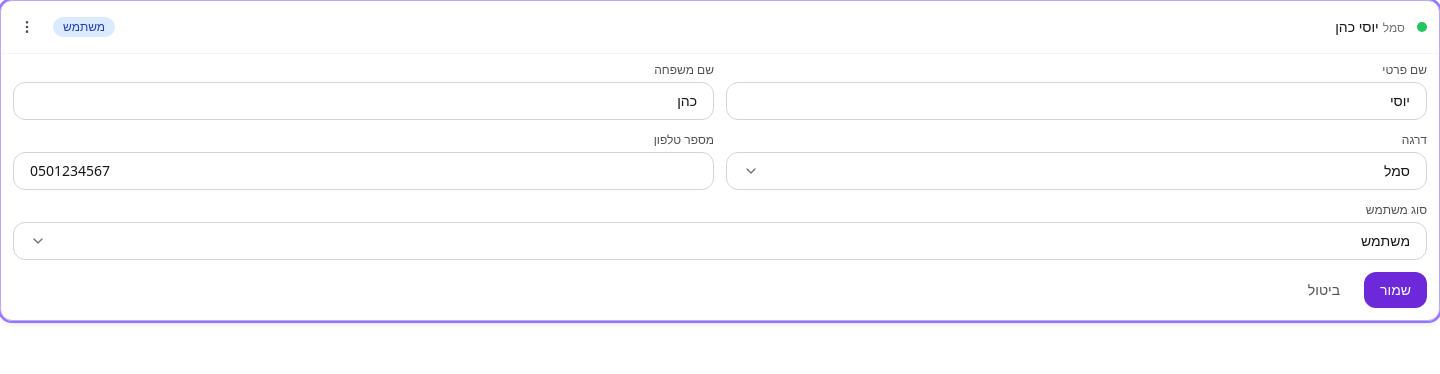
Test: PersonnelRow — edit mode › shows a validation error when the name is invalid (e.g. Latin letters)
This screenshot has width=1440, height=374.
Replace the text in the field below "שם פרטי" with "Yossi": coordinates (1076, 101) [726,82,1427,120]
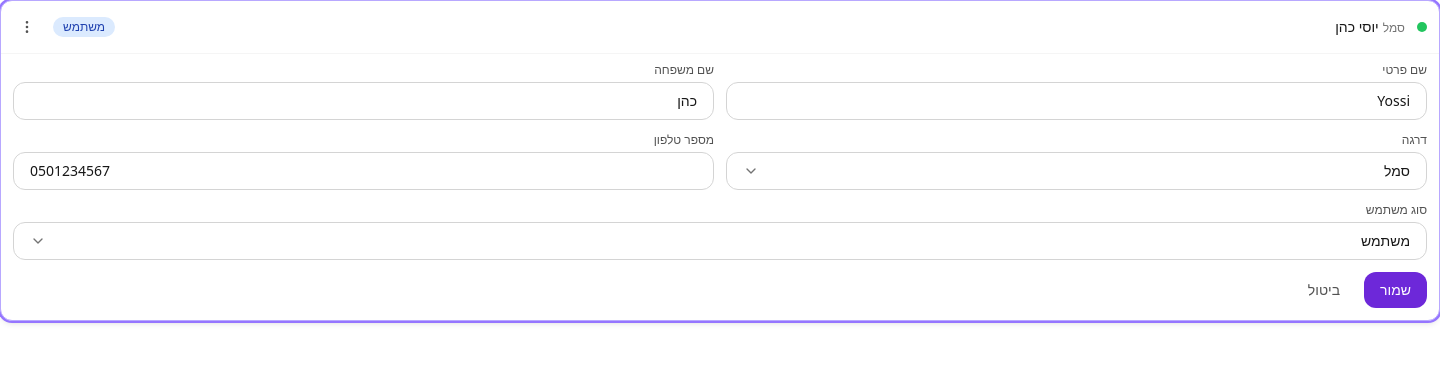
Click the button "שמור": coordinates (1396, 290) [1364,272,1427,308]
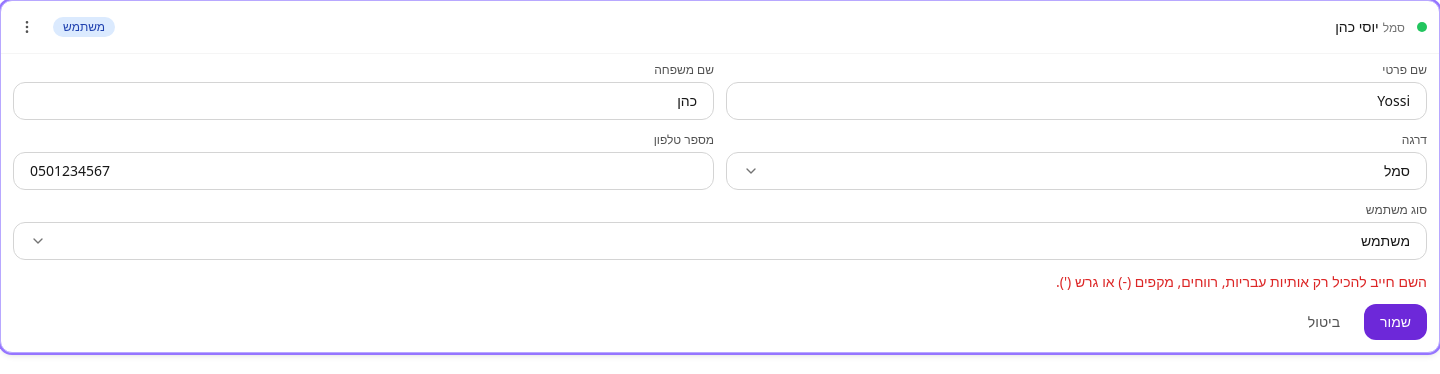
Result: the message "השם חייב להכיל רק אותיות עבריות, רווחים, מקפים (-) או גרש (')." is shown at [1056,272,1427,291]
